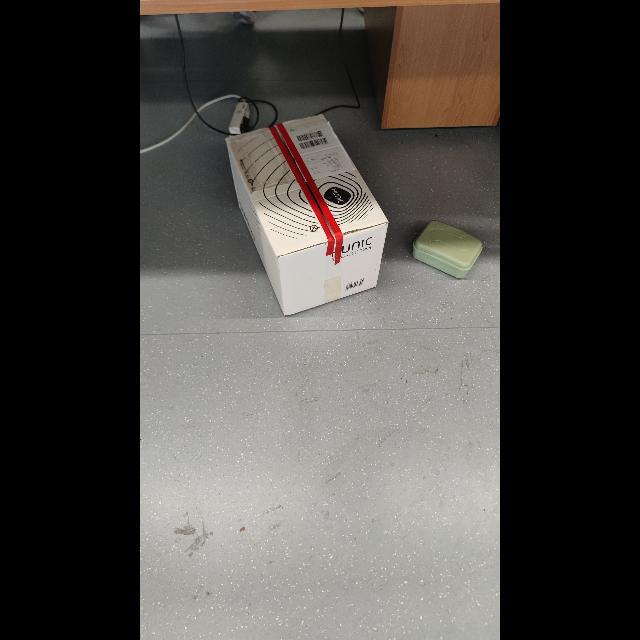cardboard_box: (220, 101, 390, 323), (408, 203, 488, 289)
